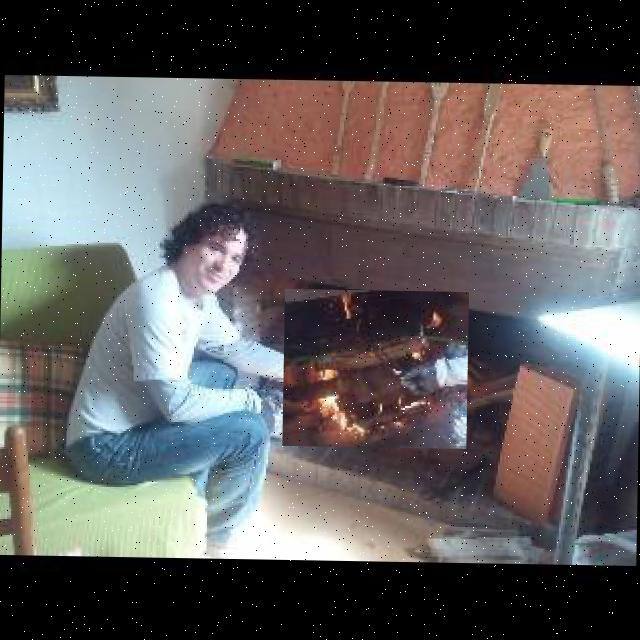fire: (282, 288, 468, 448)
